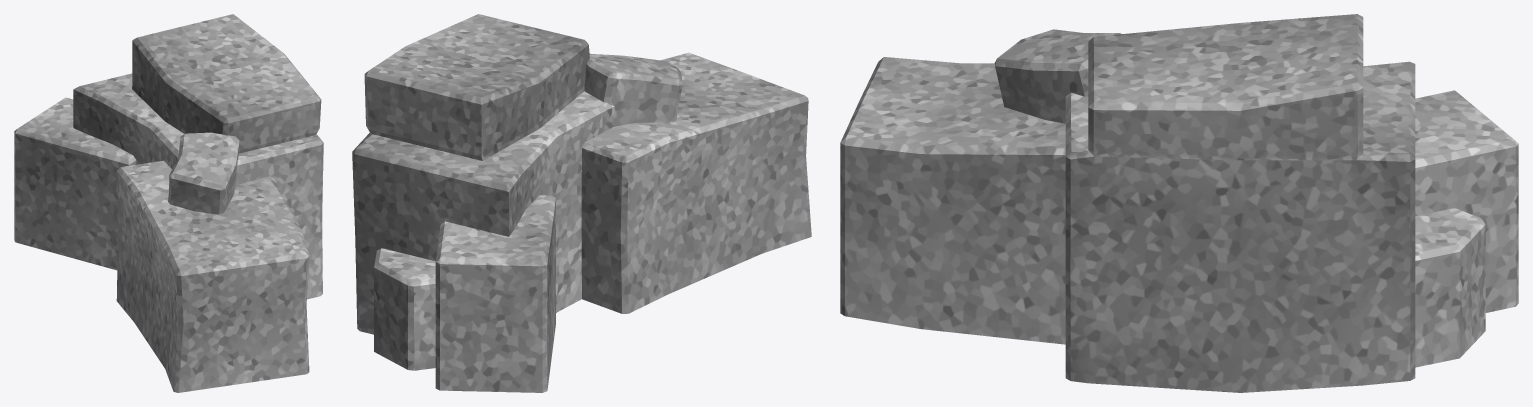
The model's file is gake3.fbx.
3 views of the same model, side by side, from view 1: azimuth 30°, elevation 25°; view 2: azimuth 150°, elevation 25°; view 3: azimuth 270°, elevation 25° (orthographic). The views are drawn at different scales.
Parts seen in each view (by area): view 1: pCube13; view 2: pCube13; view 3: pCube13.
Part boxes in pixels (x1=…): pCube13: x1=14, y1=14, x2=323, y2=392; pCube13: x1=352, y1=14, x2=811, y2=392; pCube13: x1=840, y1=14, x2=1518, y2=392.
Bounding box in the file's own units: 22.74 × 19.37 × 39.18.
